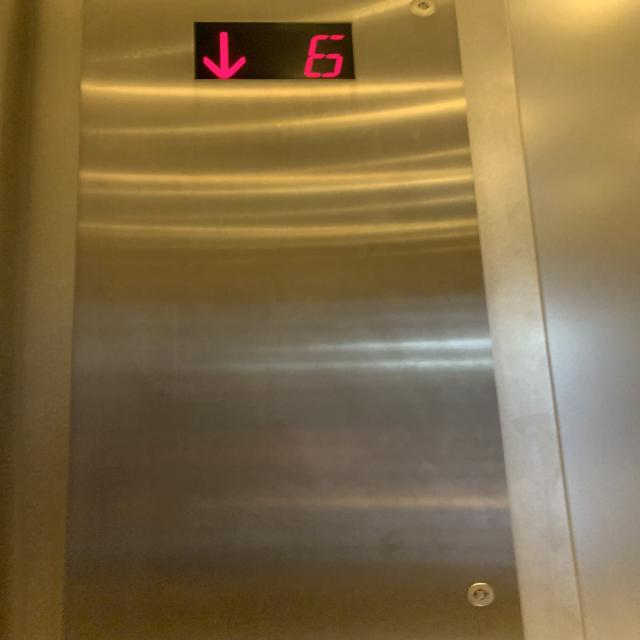box: (187, 18, 361, 89)
